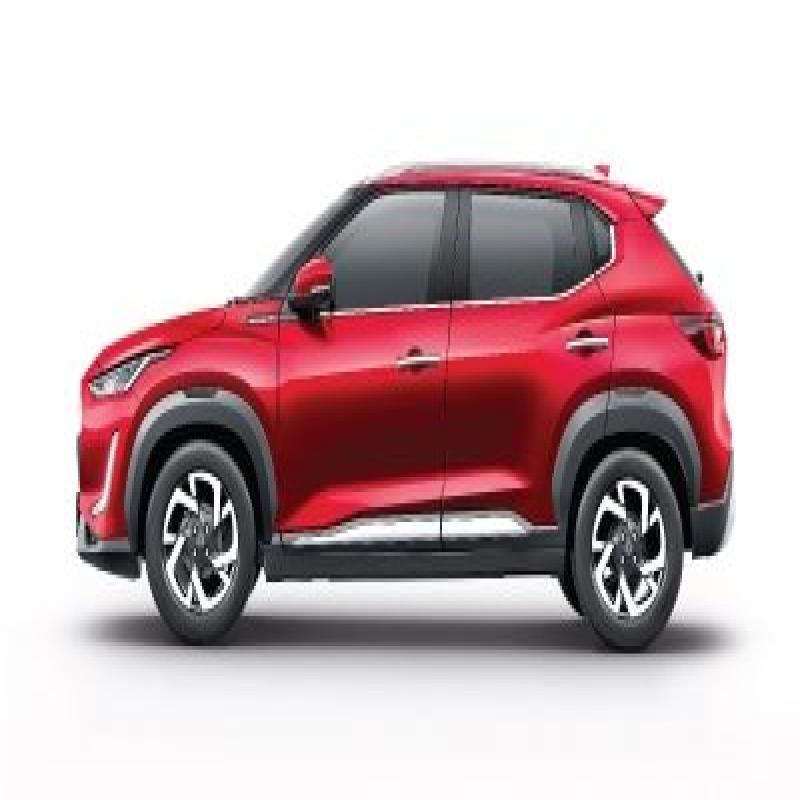car: (42, 121, 742, 698)
